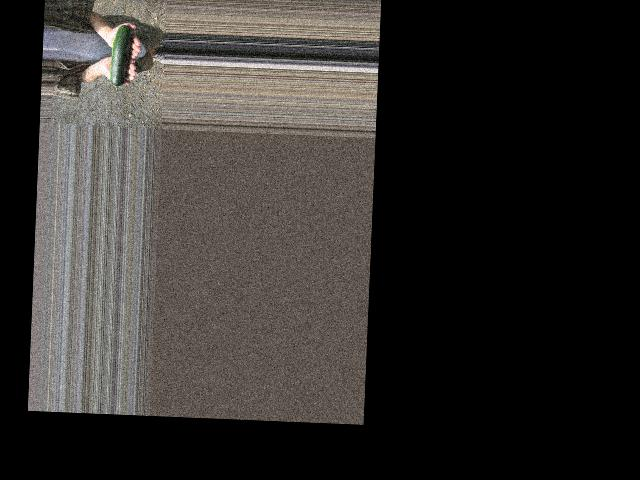cucumber: (109, 25, 132, 94)
